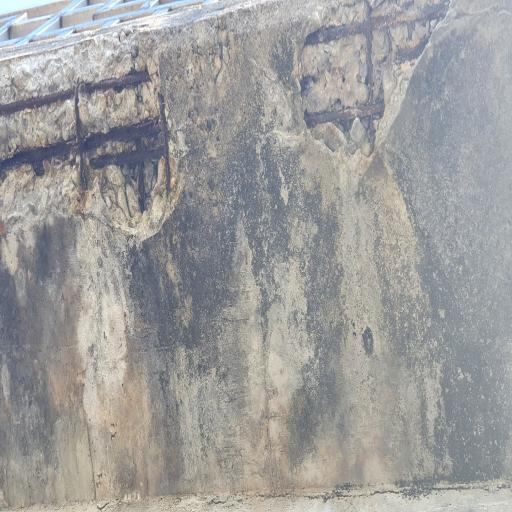exposed_rebar: (0, 71, 171, 201), (304, 4, 448, 126)
